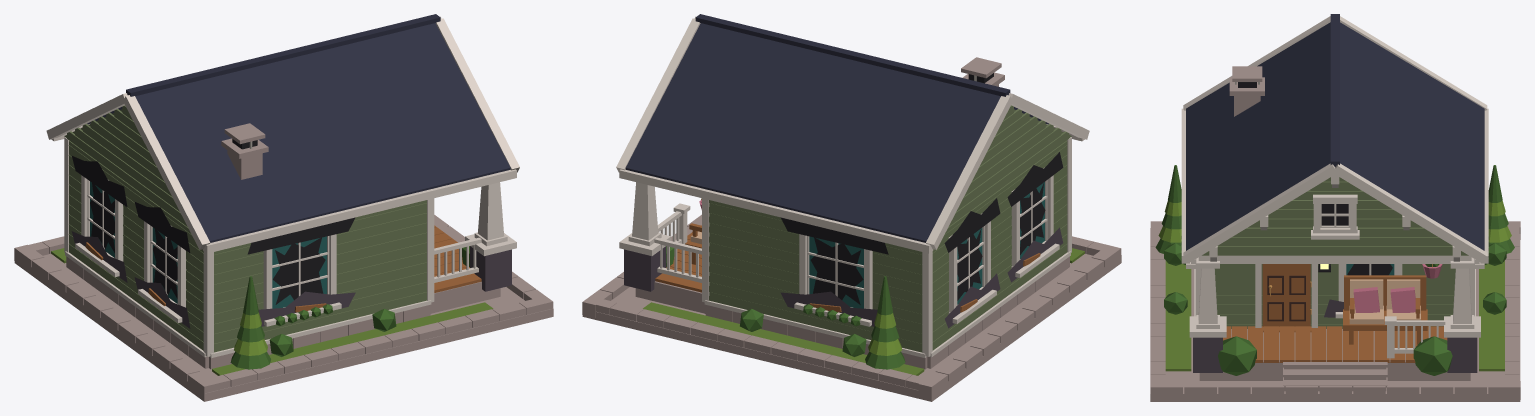
Rendered from bld.house-e.w3.lod1.glb.
3 views of the same model, side by side, from view 1: azimuth 30°, elevation 25°; view 2: azimuth 150°, elevation 25°; view 3: azimuth 270°, elevation 25° (orthographic). The views are drawn at different scales.
Visible parts, largest first — view 1: roof, body, object 6; view 2: roof, body, object 6; view 3: roof, object 6, body, door_front.
Boxes of the visible parts, x1,y1,x2,y2 form: roof: (46,14,519,253); body: (64,105,516,369); object 6: (14,156,553,401); roof: (616,14,1089,253); body: (619,105,1071,369); object 6: (582,152,1121,401); roof: (1181,14,1488,263); object 6: (1150,165,1520,401); body: (1189,255,1480,391); door_front: (1262,264,1311,326).
Bounding box in the file's own units: 8.5 × 5.51 × 8.01.
